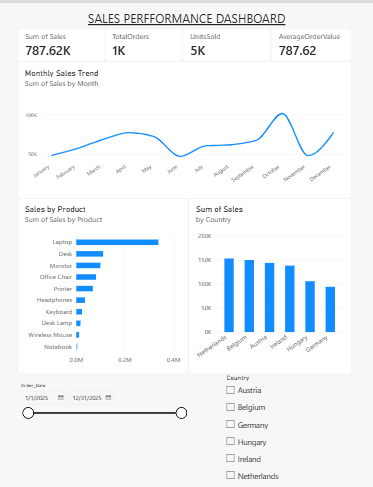

What the dashboard file says about the page in this screenshot:
{"tool":"powerbi","page":{"name":"Page 1","canvas":[1920,1080],"ordinal":0},"visuals":[{"type":"cardVisual","fields":{"Data":["Sum(sales.Sales)"]},"box":[202.5,55,195,73.8],"z":0},{"type":"cardVisual","fields":{"Data":["sales.TotalOrders"]},"box":[397.5,55,173.8,73.8],"z":1},{"type":"cardVisual","fields":{"Data":["sales.UnitsSold"]},"box":[571.2,55,195,73.8],"z":2},{"type":"cardVisual","fields":{"Data":["sales.AverageOrderValue"]},"box":[766.2,55,180,73.8],"z":3},{"type":"clusteredColumnChart","fields":{"Category":["sales.Country"],"Y":["Sum(sales.Sales)"]},"box":[583.8,432.5,362.5,391.2],"z":4},{"type":"clusteredBarChart","title":"Sales by Product","fields":{"Category":["sales.Product"],"Y":["Sum(sales.Sales)"]},"box":[203.8,432.5,380,391.2],"z":5},{"type":"lineChart","title":"Monthly Sales Trend","fields":{"Category":["sales.Order_Date.Variation.Date Hierarchy.Month"],"Y":["Sum(sales.Sales)"]},"box":[203.8,128.8,742.5,303.8],"z":6},{"type":"slicer","fields":{"Values":["sales.Order_Date"]},"box":[203.8,843.8,380,107.5],"z":7},{"type":"slicer","fields":{"Values":["sales.Country"]},"box":[661.2,823.8,210,256.2],"z":8},{"type":"textbox","box":[361.2,16.2,445,50],"z":9}]}

Visuals, with their boxes on the page's 1920x1080 design canvas (x1, y1, x2, y2). These are canvas units, not pixel positions in the 373x487 screenshot, which may show the page scaled, cropped or inside an application window:
cardVisual - Sum(sales.Sales): l=202, t=55, r=398, b=129
cardVisual - sales.TotalOrders: l=398, t=55, r=571, b=129
cardVisual - sales.UnitsSold: l=571, t=55, r=766, b=129
cardVisual - sales.AverageOrderValue: l=766, t=55, r=946, b=129
clusteredColumnChart - sales.Country x Sum(sales.Sales): l=584, t=432, r=946, b=824
"Sales by Product" clusteredBarChart: l=204, t=432, r=584, b=824
"Monthly Sales Trend" lineChart: l=204, t=129, r=946, b=433
slicer - sales.Order_Date: l=204, t=844, r=584, b=951
slicer - sales.Country: l=661, t=824, r=871, b=1080
textbox: l=361, t=16, r=806, b=66
